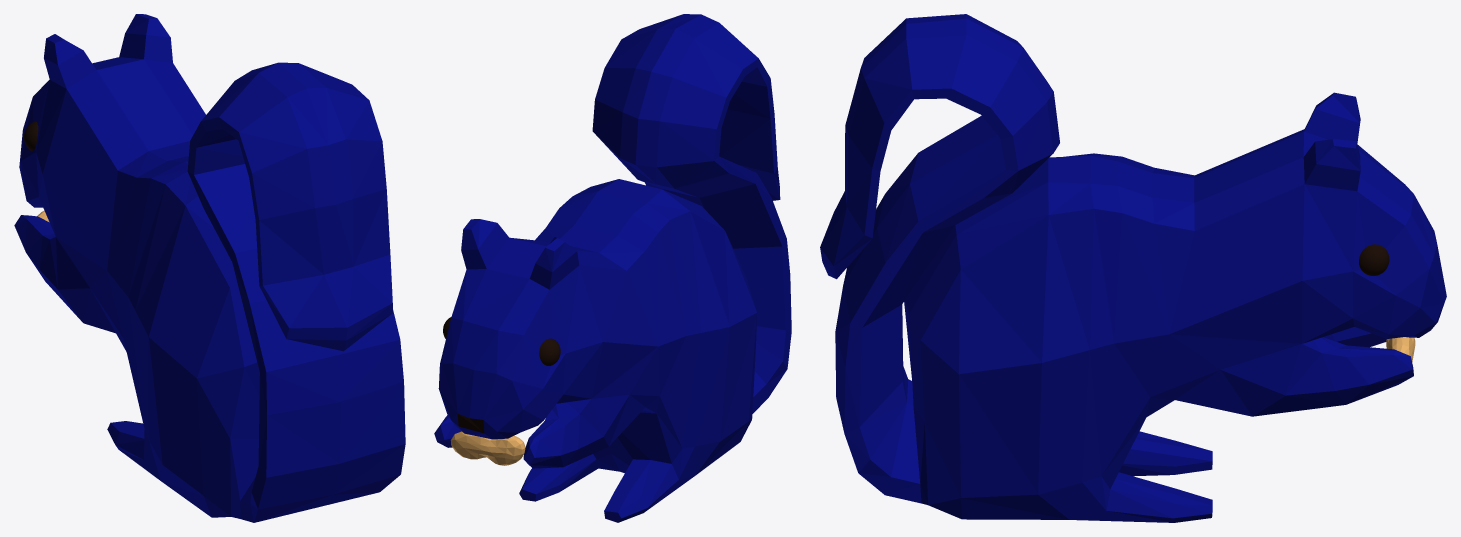
Rendered from squirrel_2.fbx.
The picture shows the model from 3 angles, left to right: view 1: azimuth 30°, elevation 25°; view 2: azimuth 150°, elevation 25°; view 3: azimuth 270°, elevation 25°; orthographic projection. The views are drawn at different scales.
Parts seen in each view (by area): view 1: squarrel; view 2: squarrel; view 3: squarrel.
Part boxes in pixels (bbox=[...]): squarrel: bbox=[14, 14, 405, 522]; squarrel: bbox=[434, 14, 791, 522]; squarrel: bbox=[820, 14, 1446, 522].
Size of the model in its own units: 49.31 by 111 by 133.
